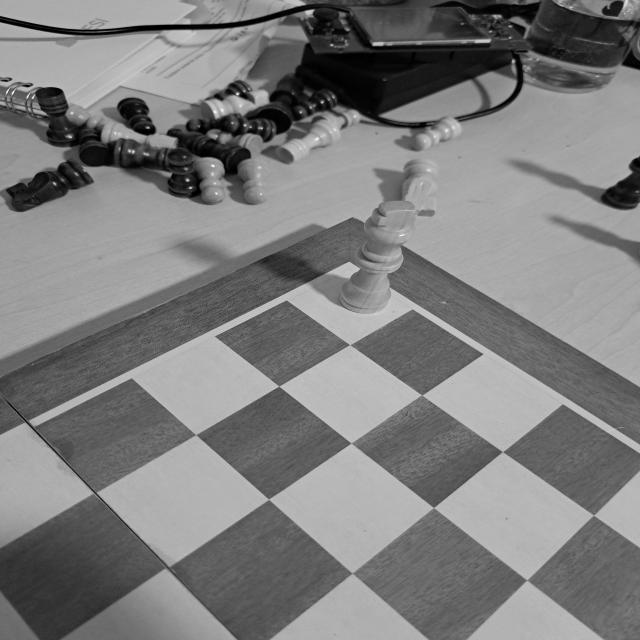chess-table-corners: (337, 261, 360, 277)
